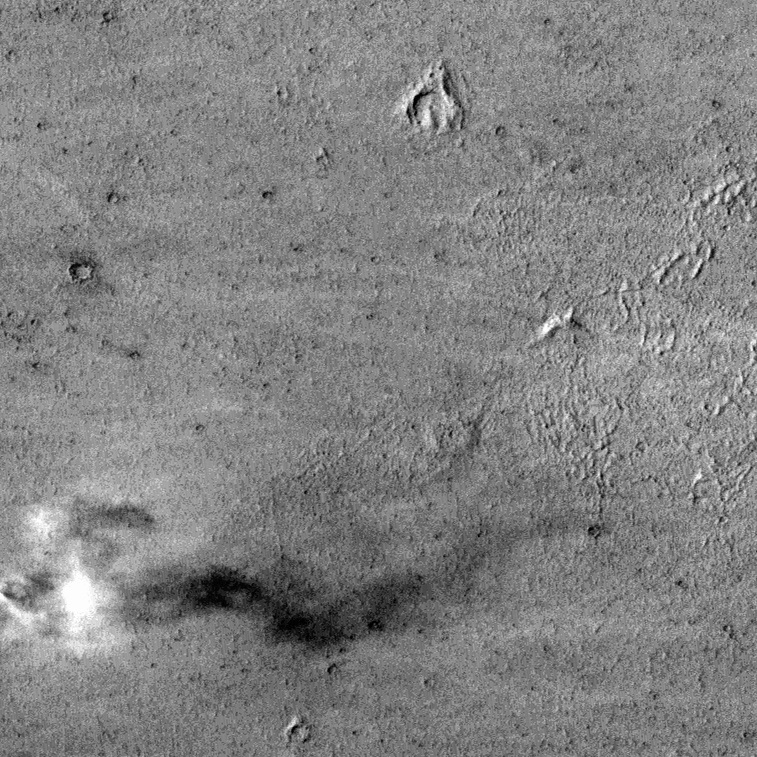dust_devil: (54, 550, 481, 662), (27, 498, 157, 541)
